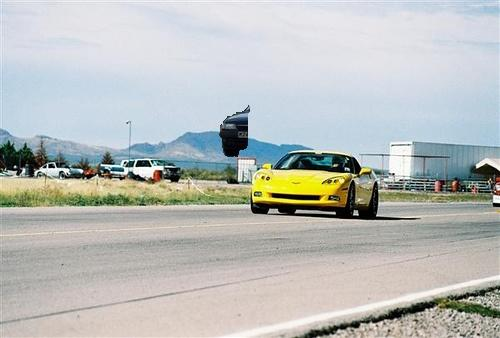tampered: (220, 106, 250, 157)
